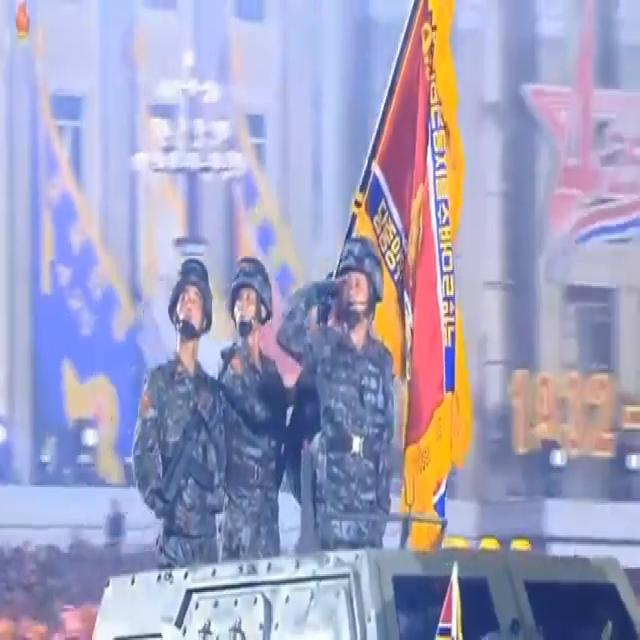north tank: (78, 455, 640, 640)
